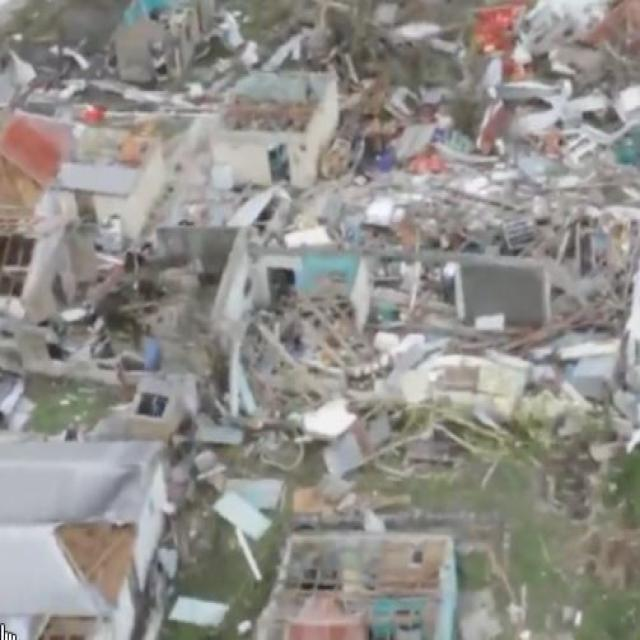collapsed_building: (0, 74, 639, 412)
